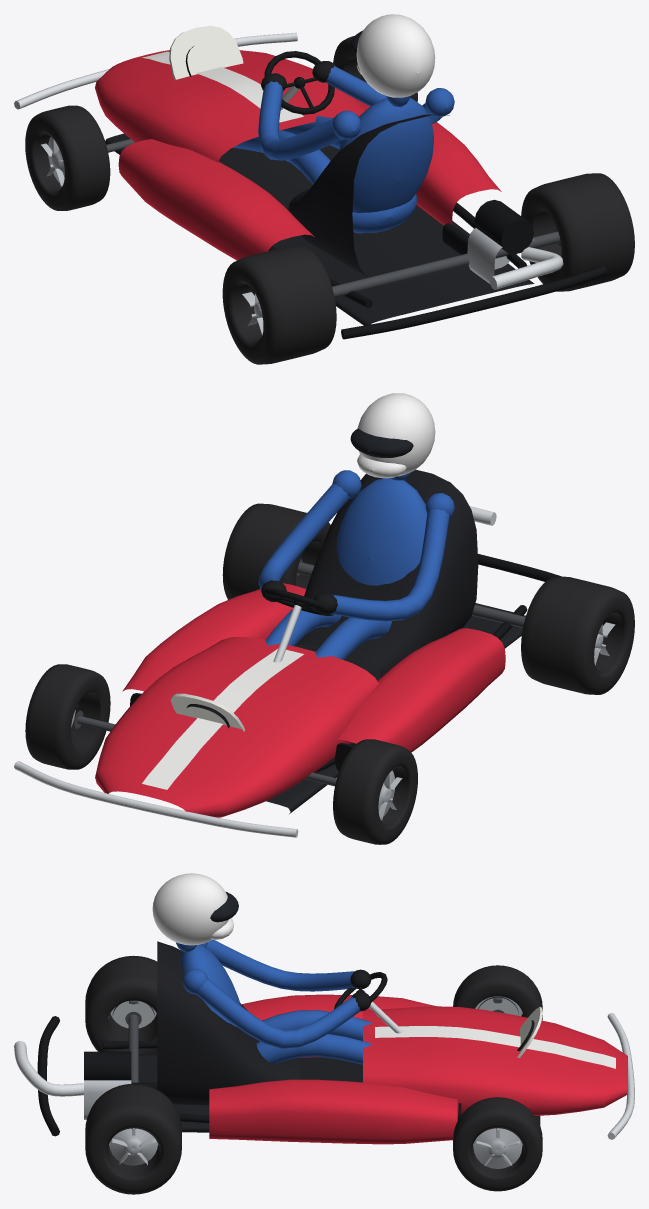
The model's file is go-kart.a3f54094.glb.
3 views of the same model, one above another, from view 1: azimuth 30°, elevation 25°; view 2: azimuth 150°, elevation 25°; view 3: azimuth 270°, elevation 25° (orthographic). The views are drawn at different scales.
Parts seen in each view (by area): view 1: chassis, wheel_rl, wheel_rr, wheel_fl, steer_wheel, wheel_fr; view 2: chassis, wheel_rl, wheel_fl, wheel_fr, wheel_rr, steer_wheel; view 3: chassis, wheel_rr, wheel_fr, wheel_rl, wheel_fl.
Part boxes in pixels (x1,y1,x2,y2): chassis: [14, 14, 607, 339]; wheel_rl: [222, 246, 336, 364]; wheel_rr: [521, 173, 634, 291]; wheel_fl: [25, 105, 110, 210]; steer_wheel: [264, 51, 334, 114]; wheel_fr: [333, 36, 417, 101]; chassis: [14, 393, 561, 837]; wheel_rl: [521, 576, 634, 694]; wheel_fl: [333, 739, 417, 844]; wheel_fr: [25, 664, 110, 769]; wheel_rr: [222, 503, 330, 599]; steer_wheel: [264, 588, 333, 615]; chassis: [14, 873, 634, 1144]; wheel_rr: [85, 1083, 181, 1194]; wheel_fr: [453, 1097, 542, 1191]; wheel_rl: [85, 955, 157, 1054]; wheel_fl: [453, 965, 542, 1020].
Size of the model in its own units: 1.57 by 1.13 by 2.63.
